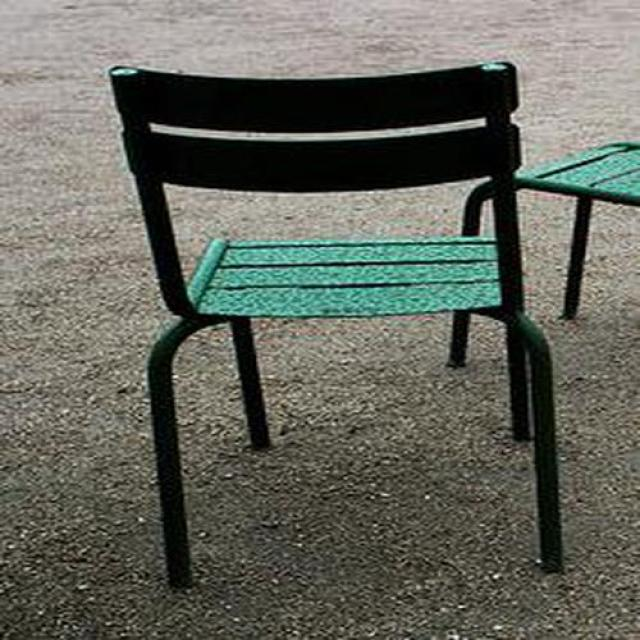chair: (108, 61, 563, 593)
